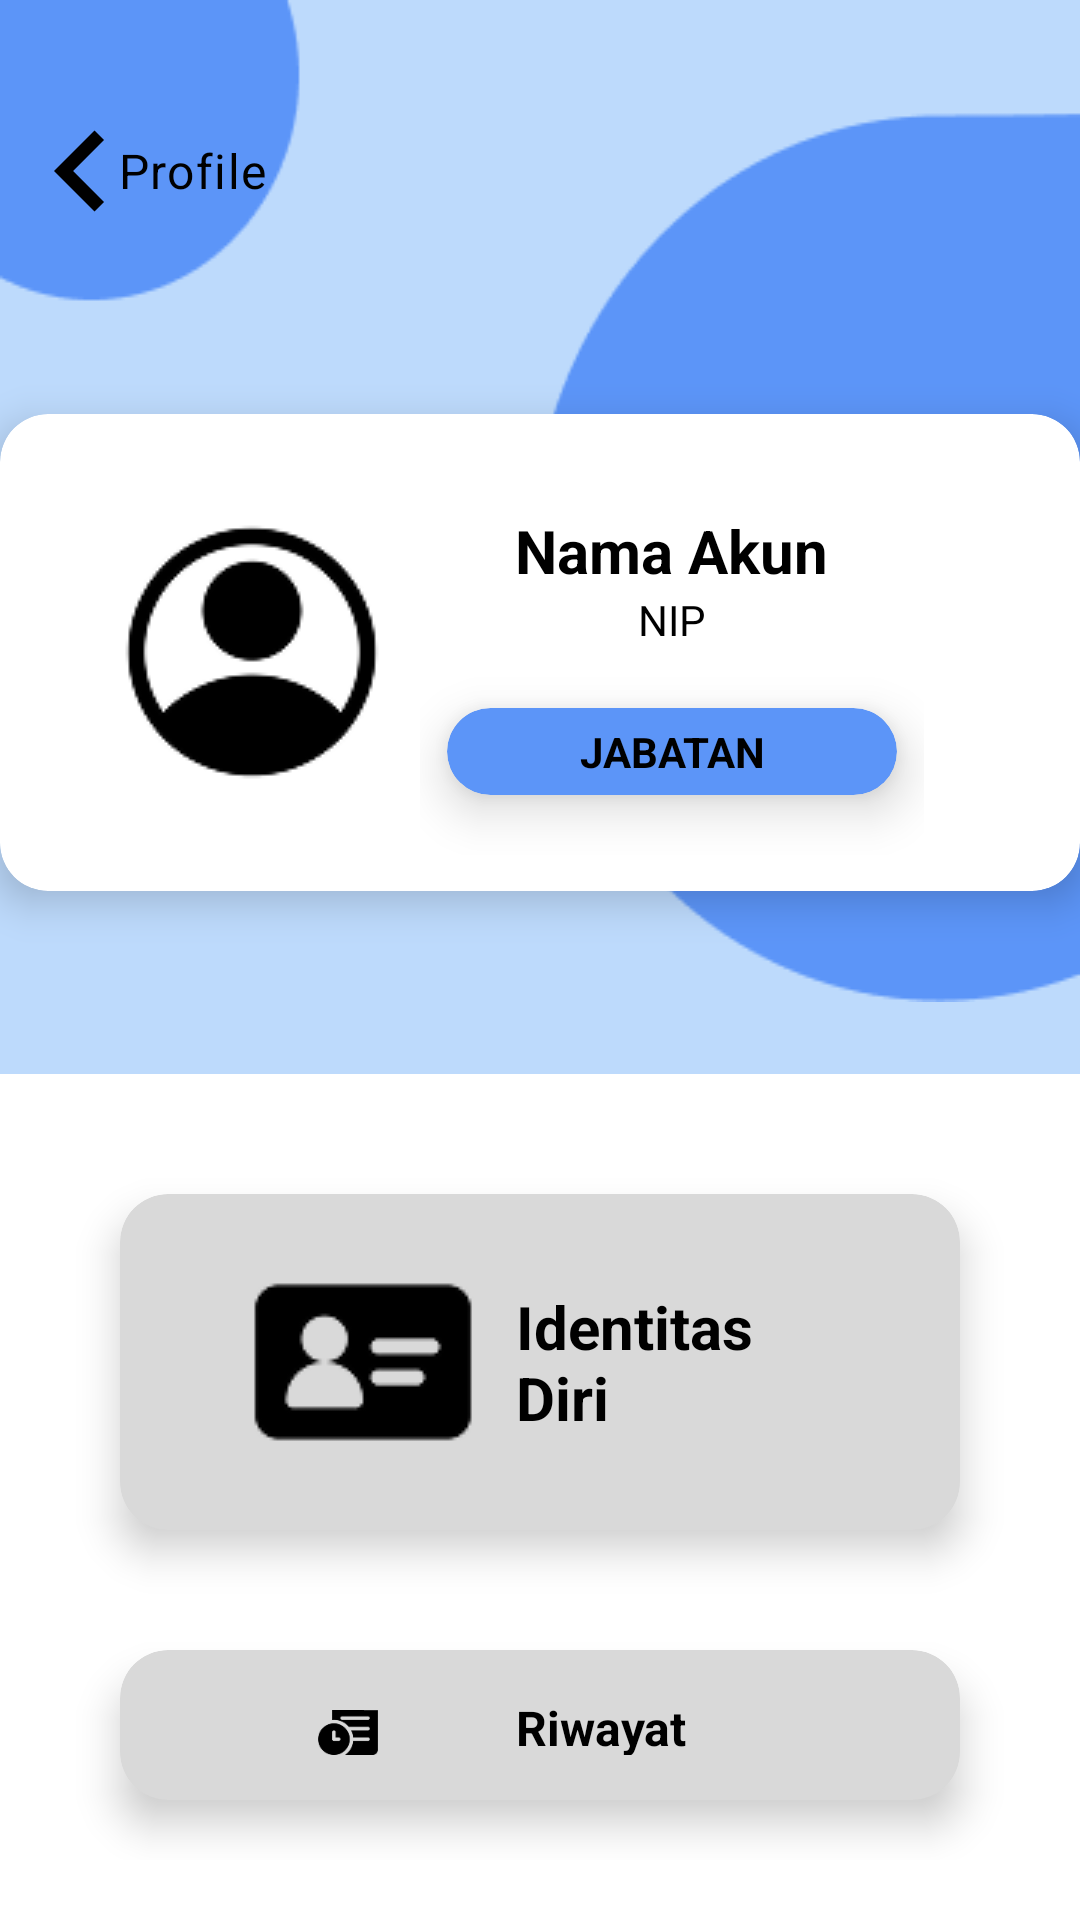

Locate icon controls on the screen. Image size 1080 x 1920, boxes as (x1, y1, x2, y2).
account: (126, 526, 377, 778)
historyb: (318, 1710, 378, 1755)
